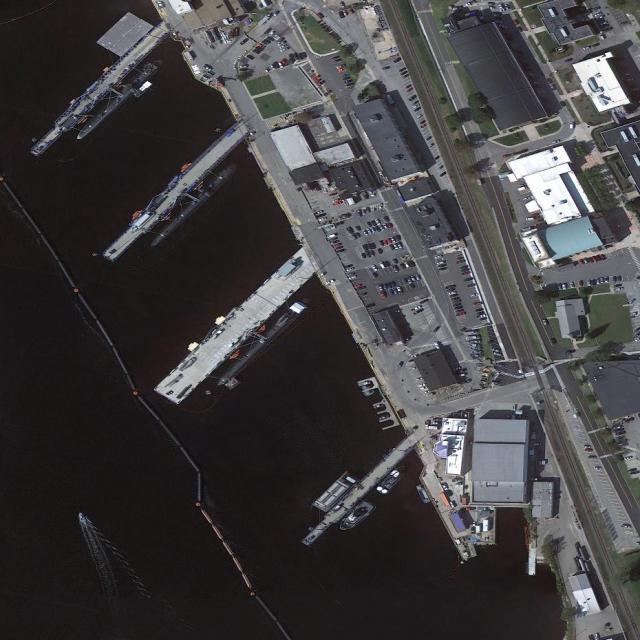Dock: (152, 247, 320, 411), (104, 120, 250, 261), (34, 22, 171, 154), (302, 431, 419, 547)
Hovercraft: (335, 497, 376, 535), (376, 460, 409, 497)
Submarine: (215, 296, 308, 388), (74, 56, 162, 140), (148, 164, 236, 248)
